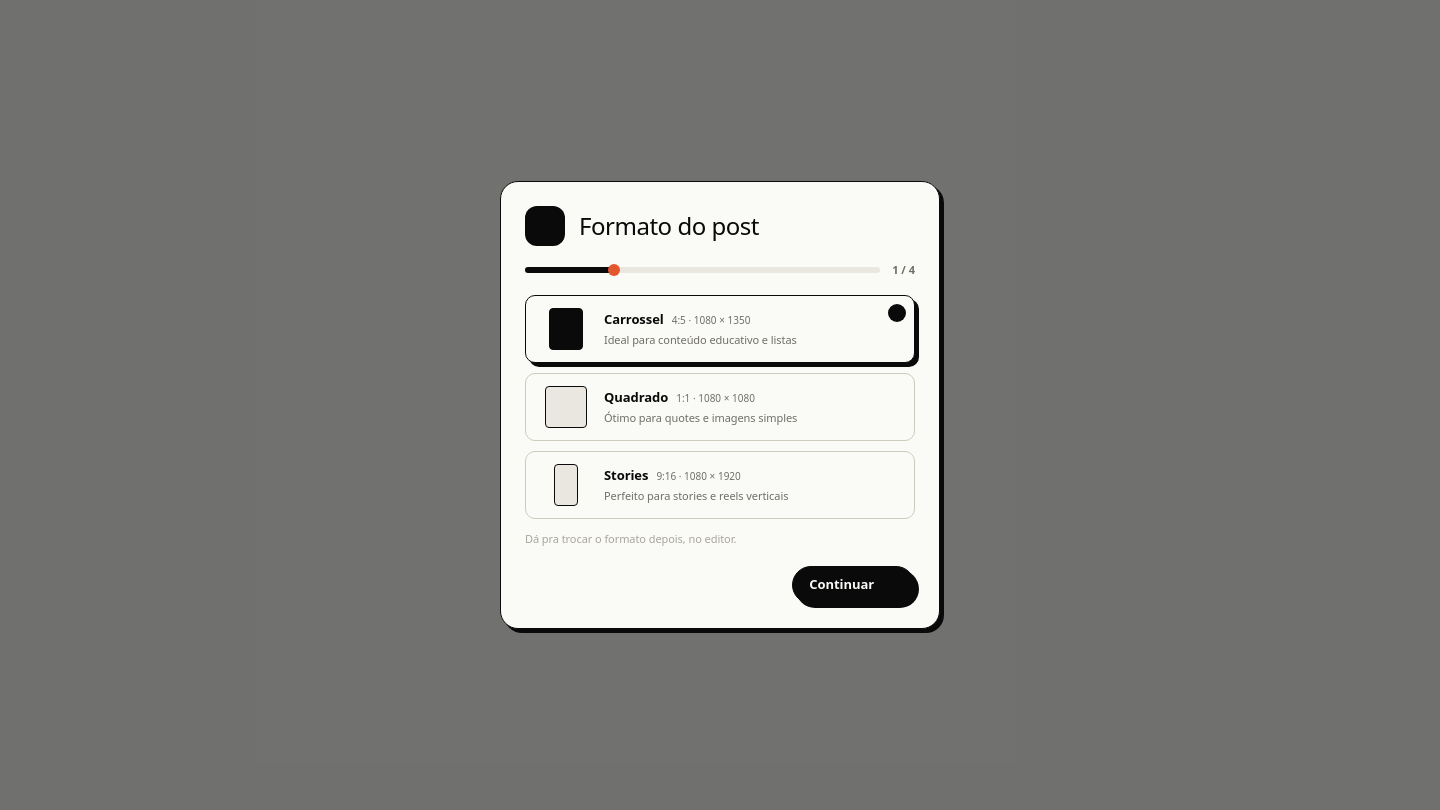
Test: peso e estabilidade do carregamento › em 1:1 o card mostra o esqueleto enquanto não carrega
Click the text "Quadrado": point(636, 398) x1=604 y1=388 x2=668 y2=408
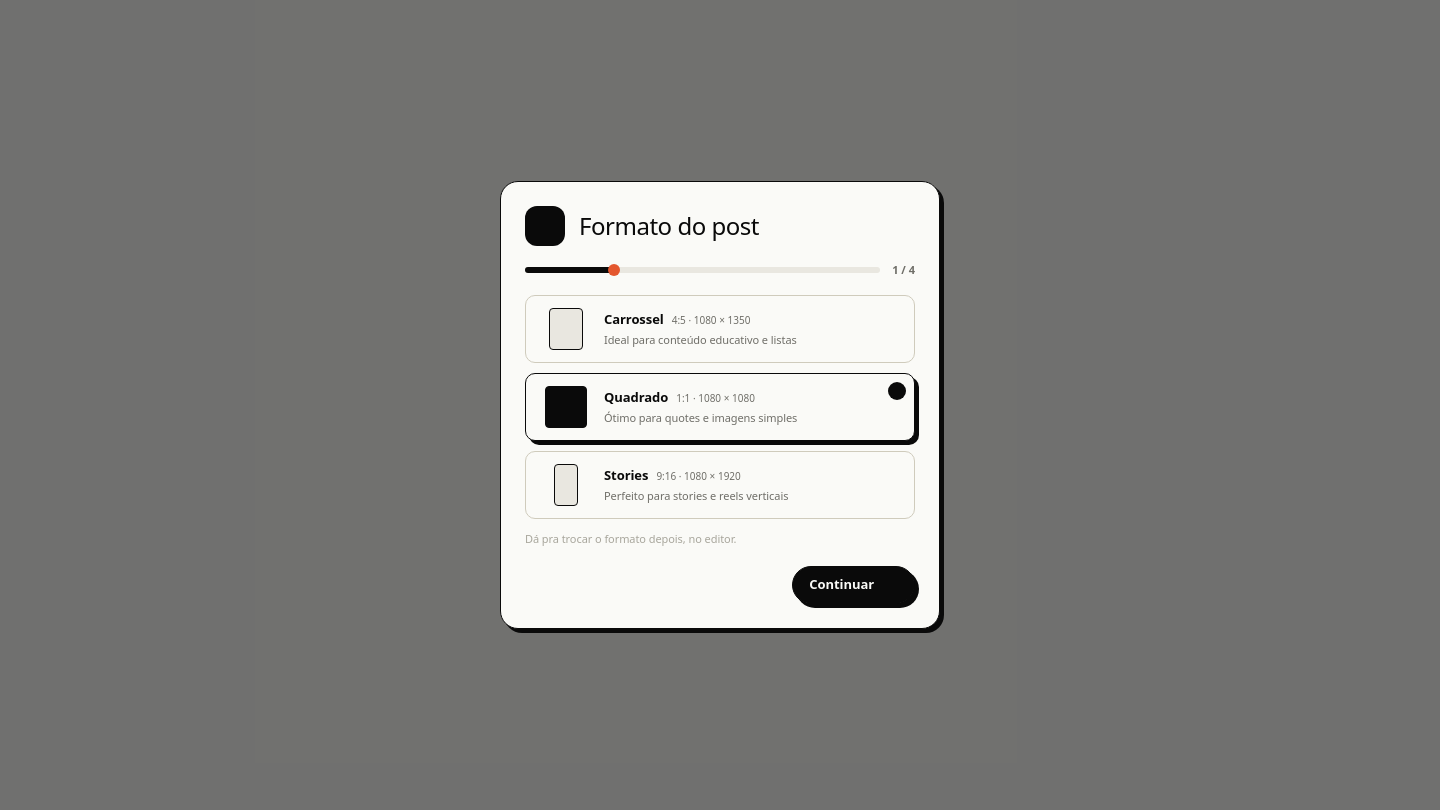
Click the button "Continuar": point(854, 585) x1=792 y1=566 x2=915 y2=604
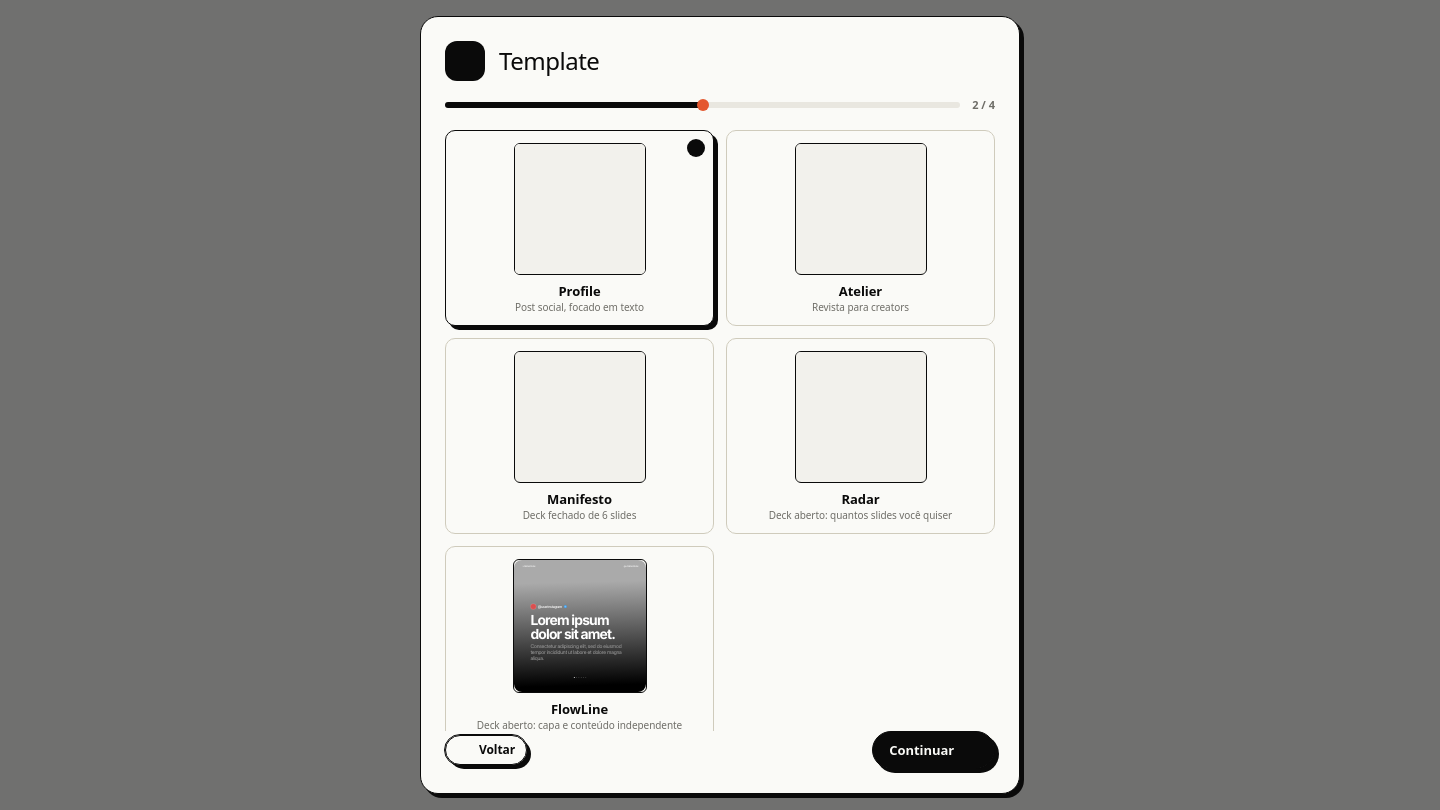
Result: the element with test id "template-preview-loading-profile" is shown at x1=514 y1=144 x2=644 y2=274
